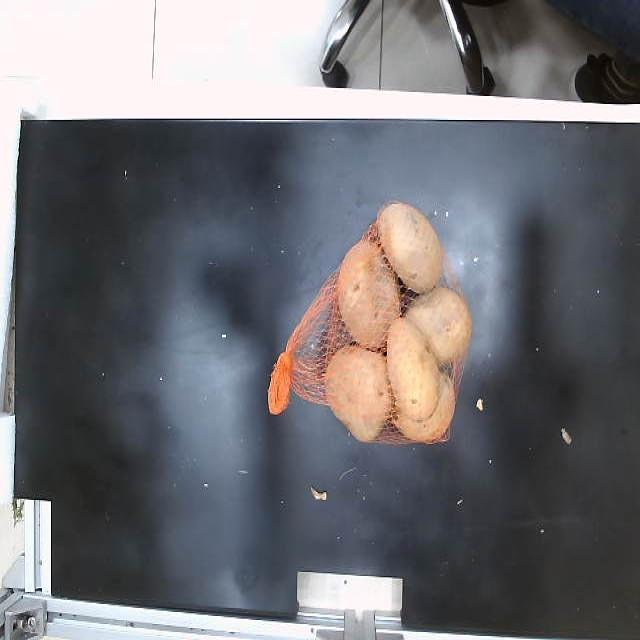potato: (336, 240, 400, 349), (326, 345, 391, 441), (378, 202, 442, 292), (388, 318, 439, 421), (406, 287, 472, 363), (394, 372, 455, 442)
